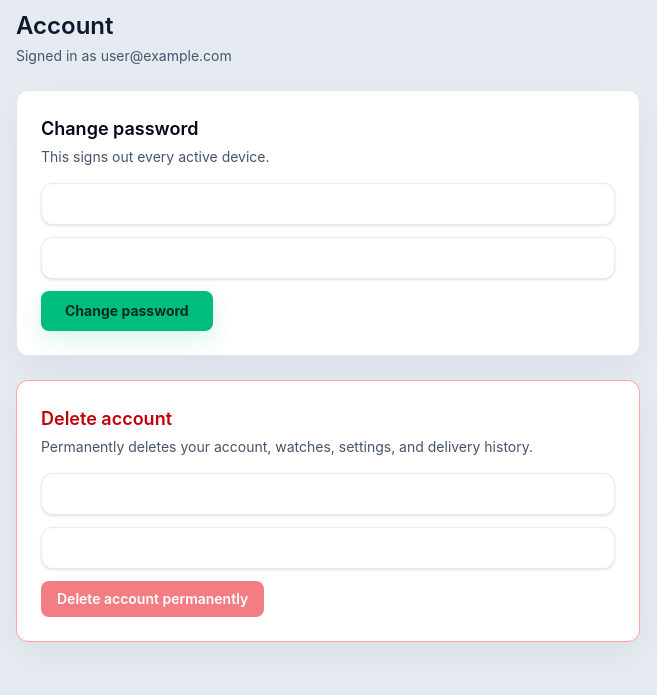
Test case: AccountSettings › keeps the session when account deletion fails
This screenshot has width=657, height=695.
Type "wrong-password" into the password field named "Password for deletion" at (328, 494), box [41,473,615,515]
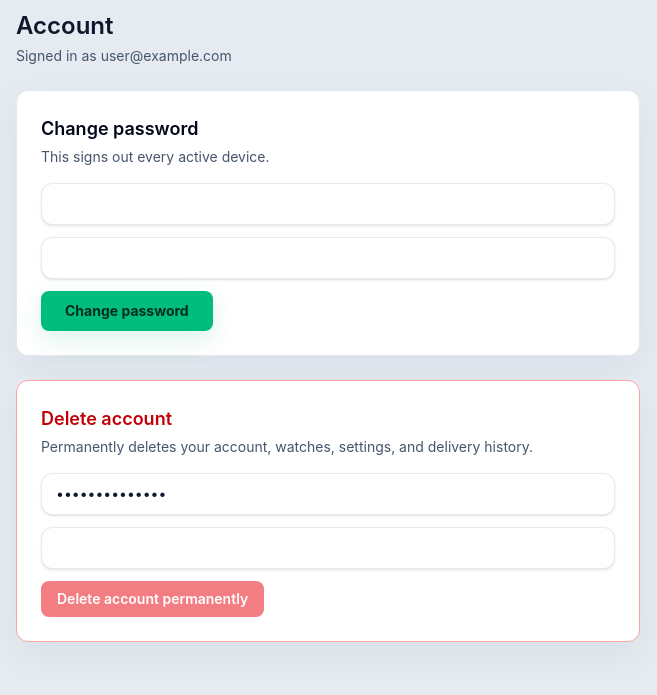
Type "DELETE" into the field named "Type DELETE to confirm" at (328, 548), box [41,527,615,569]
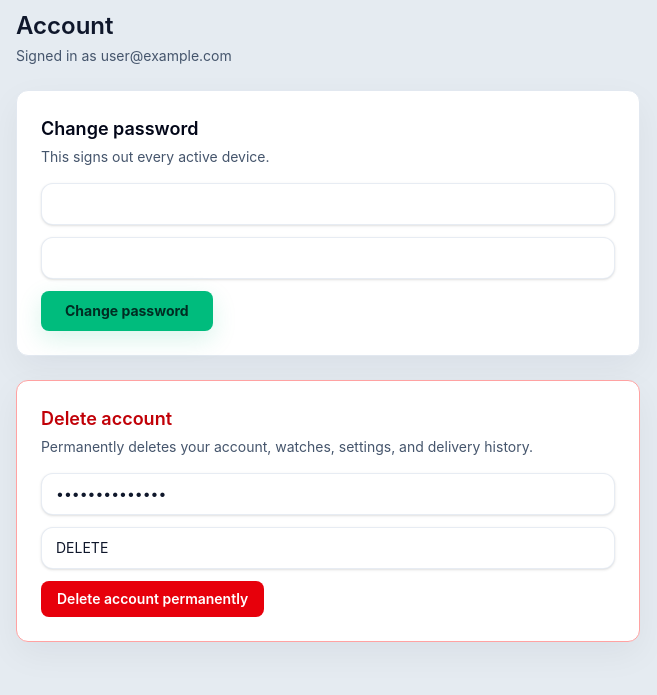
Click the button "Delete account permanently" at (153, 599), box [41,581,264,617]
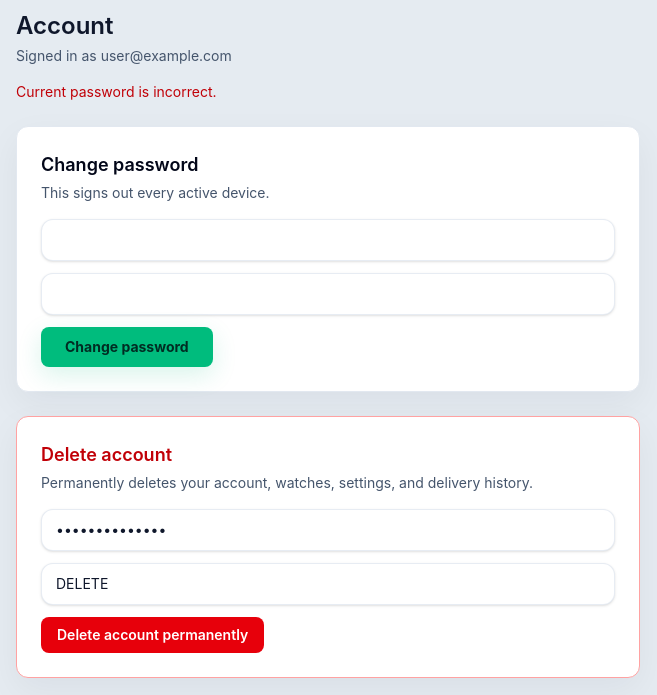
Check: the message reads "Current password is incorrect.", box [16,83,217,100]
